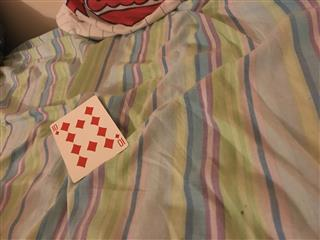TenOfDiamonds: (48, 94, 129, 184)
